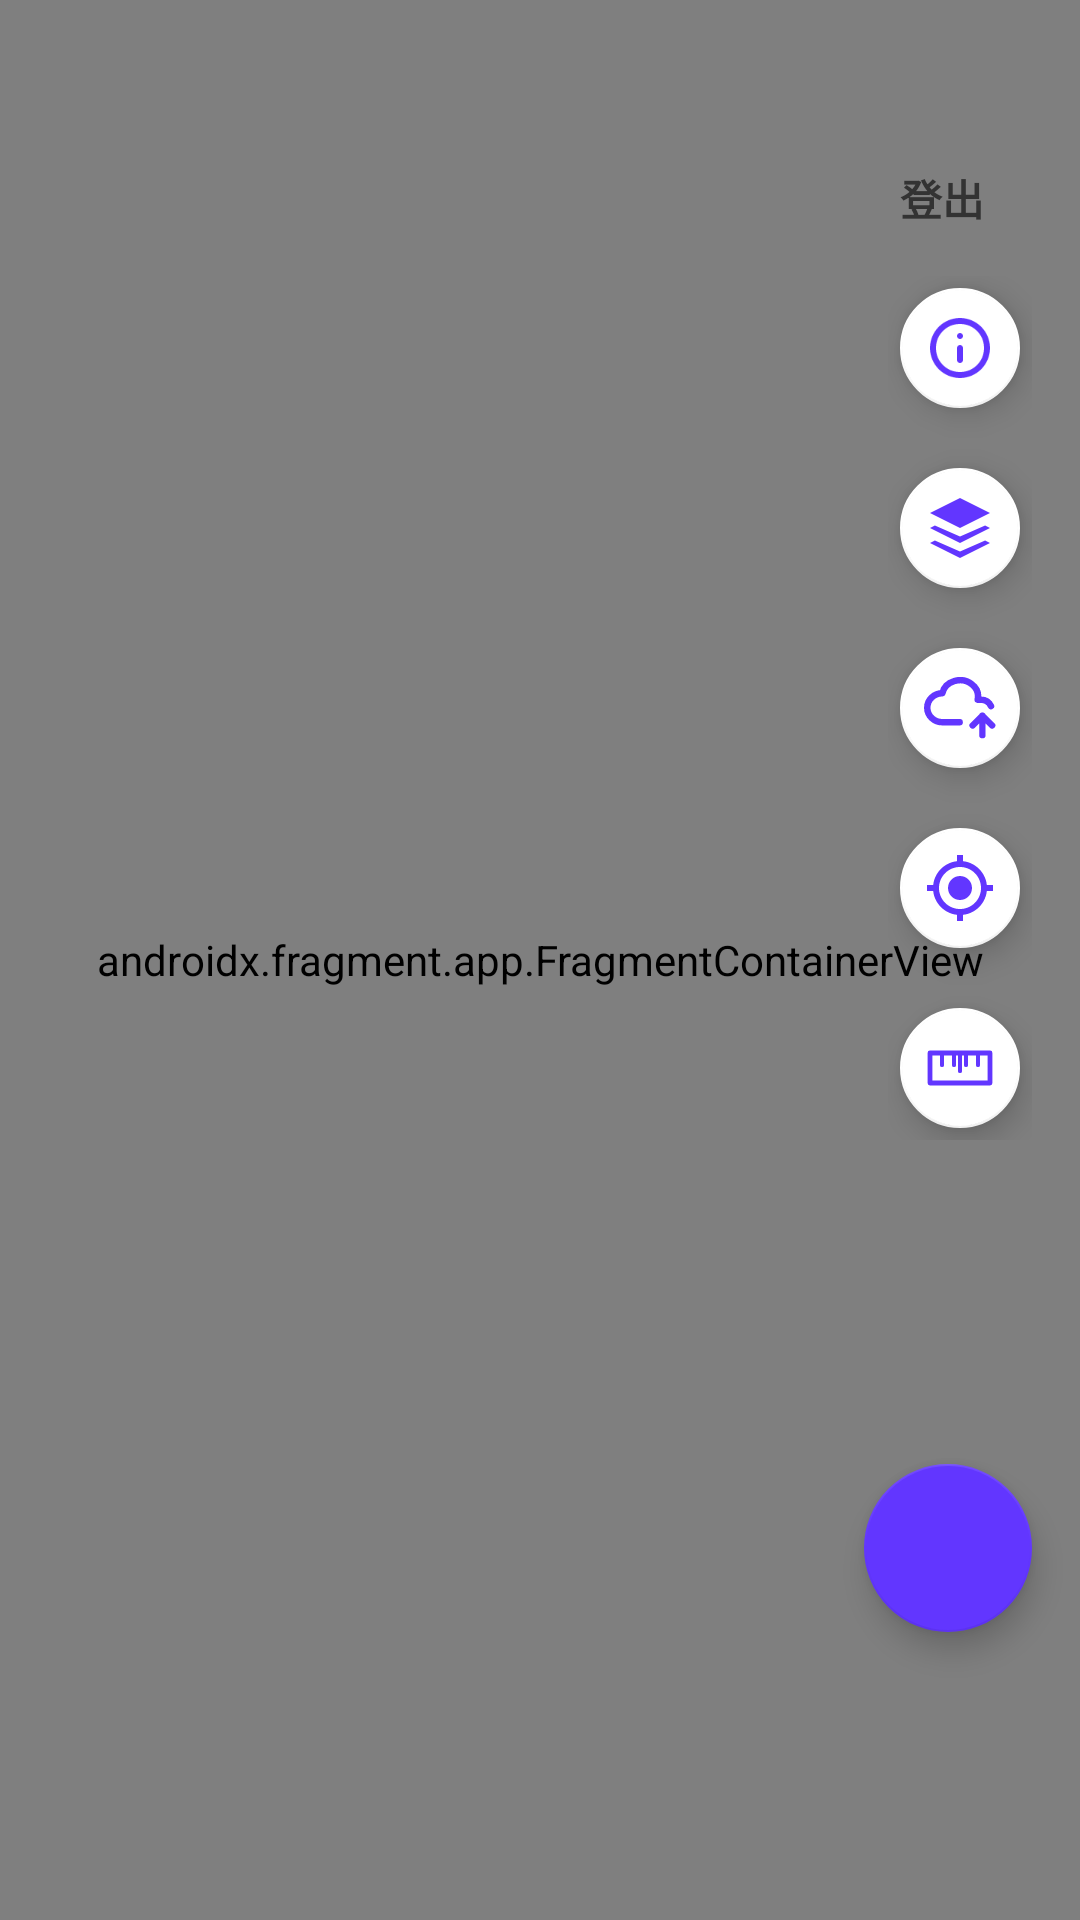

Screen size 1080w x 1920h. Icon name, then its box in pixels as (x1,y1,x2,y2):
圖層選單: (900,468,1020,588)
圖示說明: (900,288,1020,408)
待上傳草稿: (900,648,1020,768)
測量距離: (900,1008,1020,1128)
現在位置: (900,828,1020,950)
